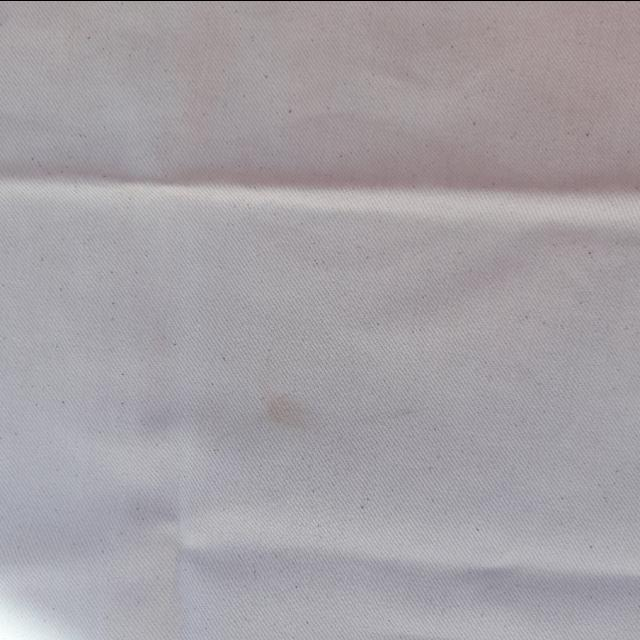taaaches: (244, 394, 328, 440)
